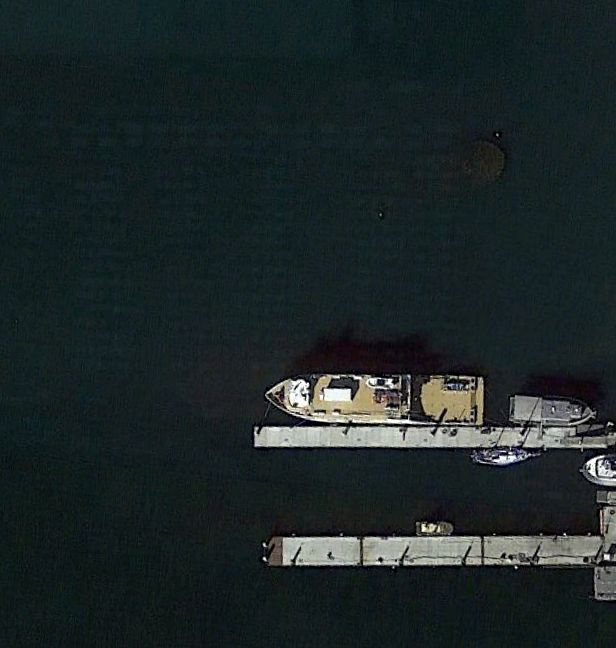boat: (262, 370, 486, 429), (507, 391, 597, 427), (472, 446, 536, 467), (413, 521, 458, 537)
